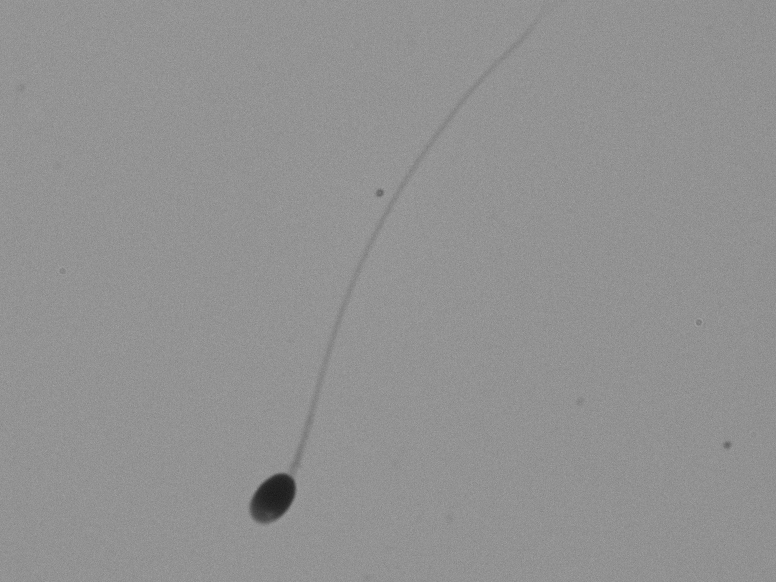Normal: (146, 55, 531, 532)
